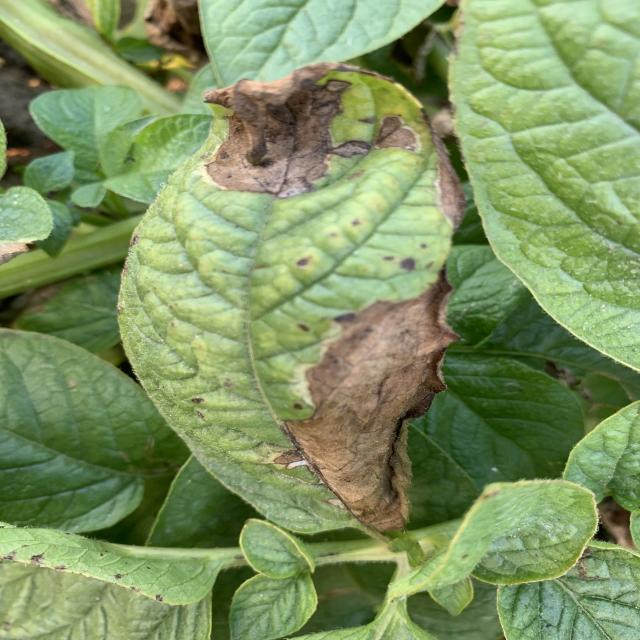lateblight: (285, 270, 458, 531), (207, 62, 372, 199), (372, 115, 465, 228), (378, 116, 417, 150)
